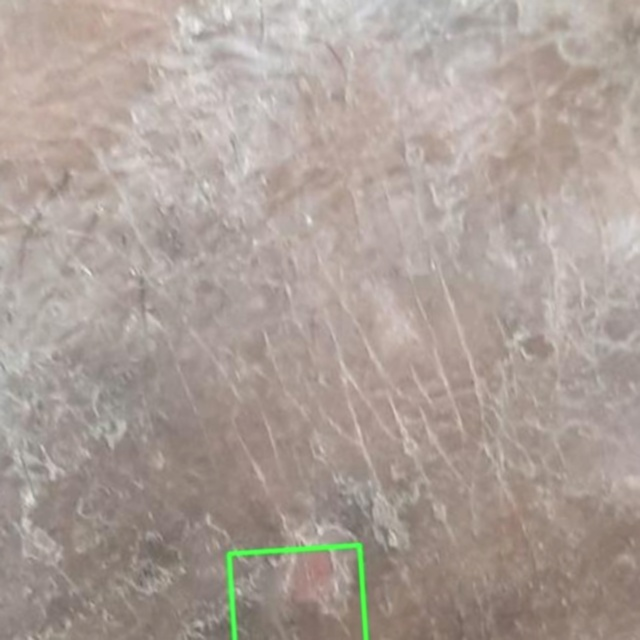Eczema: (229, 544, 366, 639)
